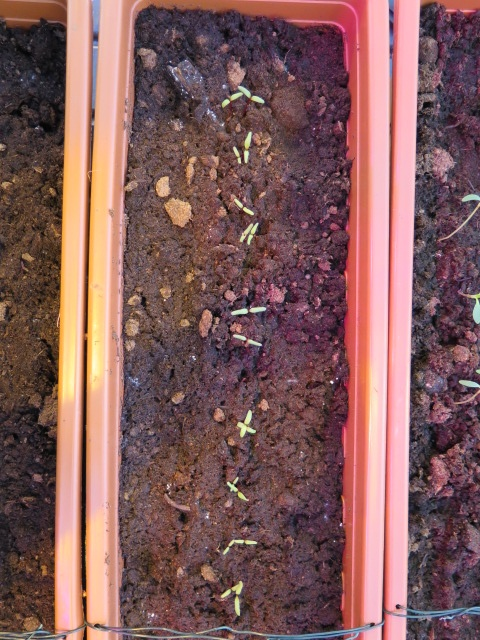crop: (235, 82, 278, 108), (218, 472, 253, 501), (233, 409, 258, 443), (225, 302, 269, 320), (229, 332, 265, 351), (231, 195, 257, 218), (218, 579, 243, 602), (225, 534, 265, 547), (233, 224, 255, 246), (219, 90, 241, 110), (249, 222, 264, 249), (244, 125, 252, 172), (230, 142, 243, 168), (216, 424, 272, 430), (223, 530, 233, 562), (233, 577, 239, 623)
